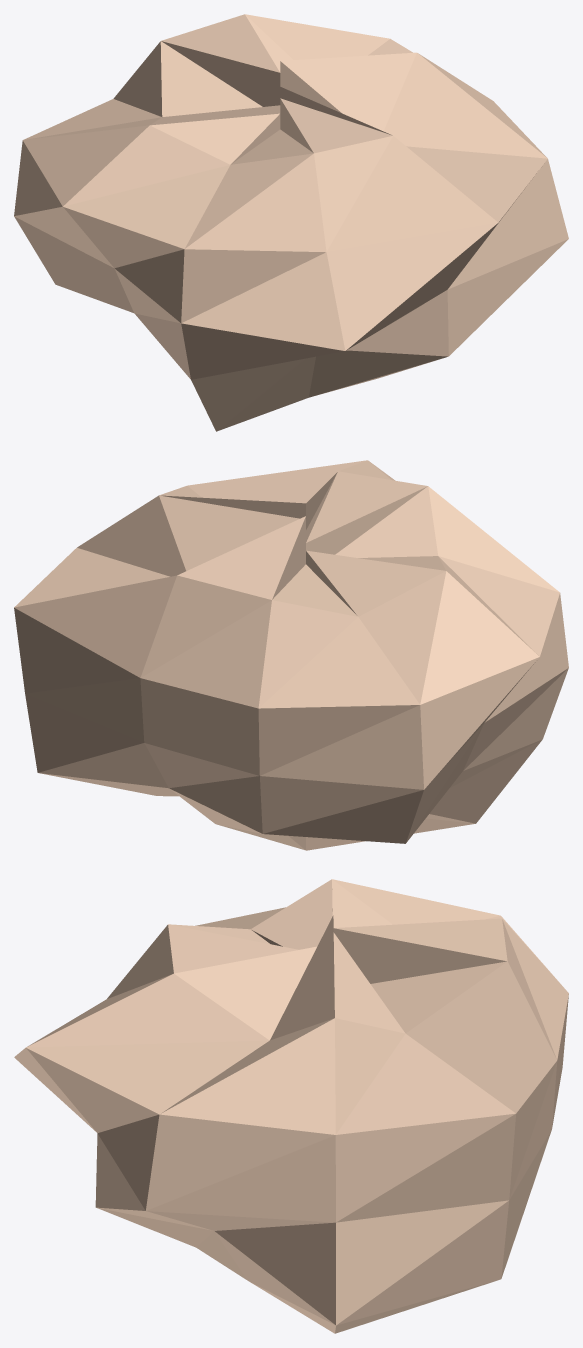
The model's file is rock_027.obj.
The picture shows the model from 3 angles, top to bottom: view 1: azimuth 30°, elevation 25°; view 2: azimuth 150°, elevation 25°; view 3: azimuth 270°, elevation 25°; orthographic projection. The views are drawn at different scales.
Size of the model in its own units: 0.6482 by 0.4364 by 0.6042.
